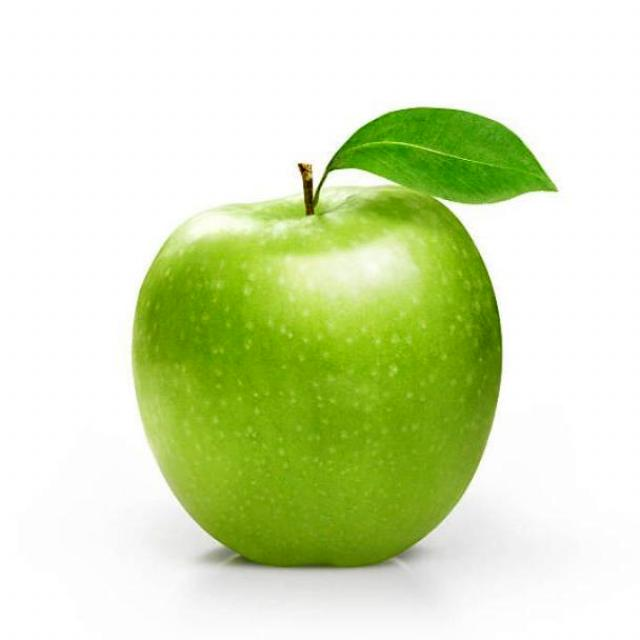HEALTHY: (110, 120, 534, 583)
